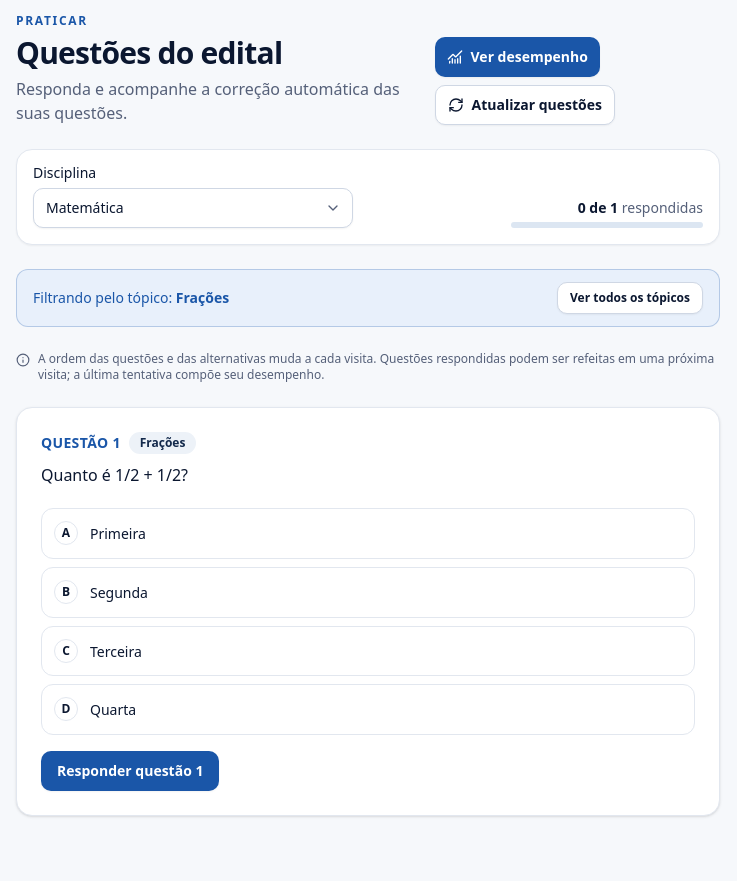
filtra pelo topico vindo de onde focar e permite ver todos
The width and height of the screenshot is (737, 881).
Expected: the text "Quanto é 1/2 + 1/2?" is shown, [41, 464, 188, 486]
Expected: the text "Quanto é 10% de 50?" is not shown
Click the button "Ver todos os tópicos".
click(630, 298)  # box [557, 282, 703, 314]
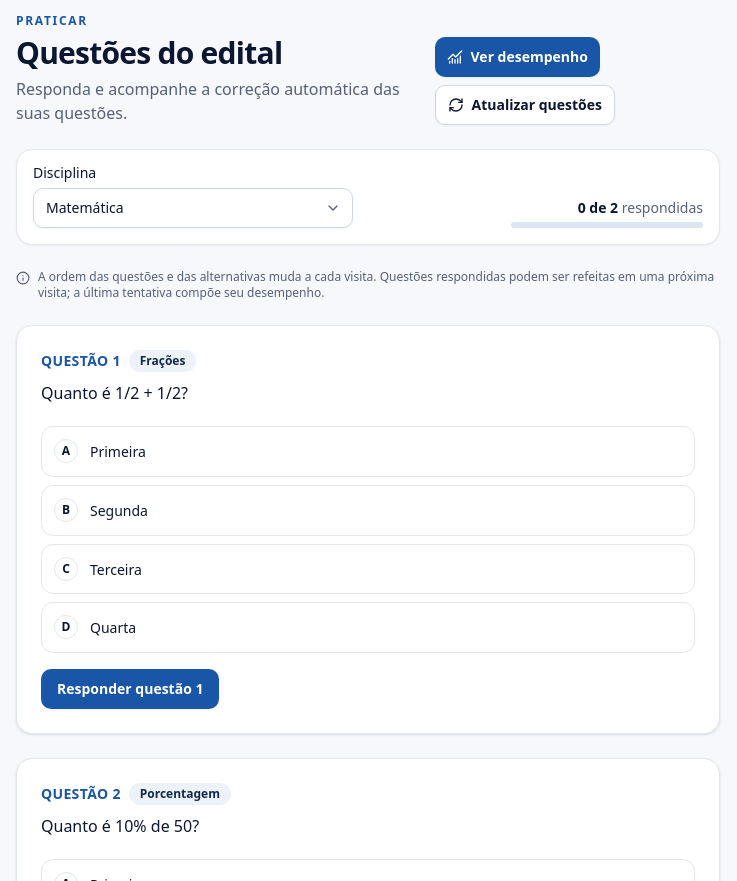
Expected: the text "Quanto é 10% de 50?" is shown, [41, 815, 199, 837]
